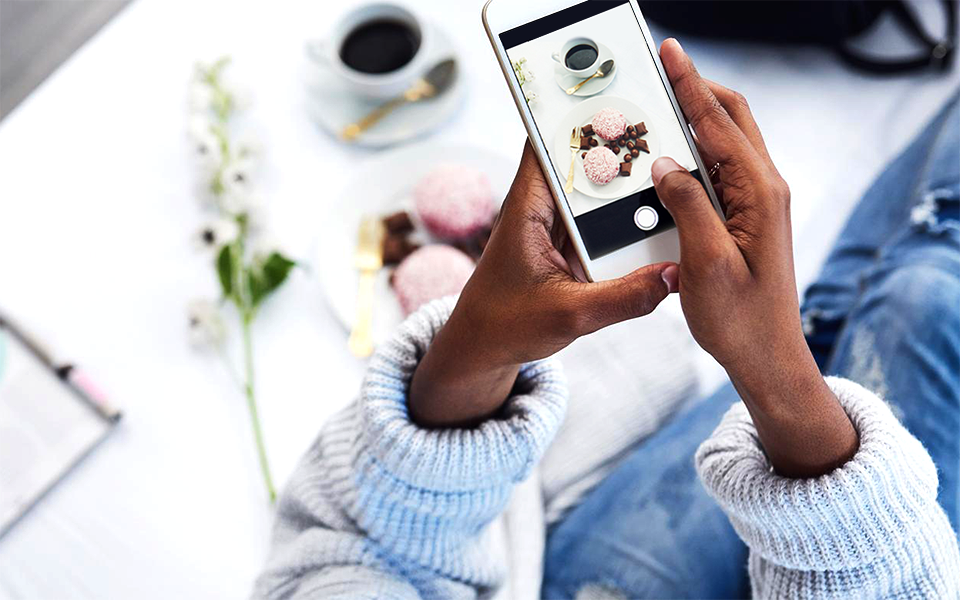phone: (478, 1, 731, 288)
